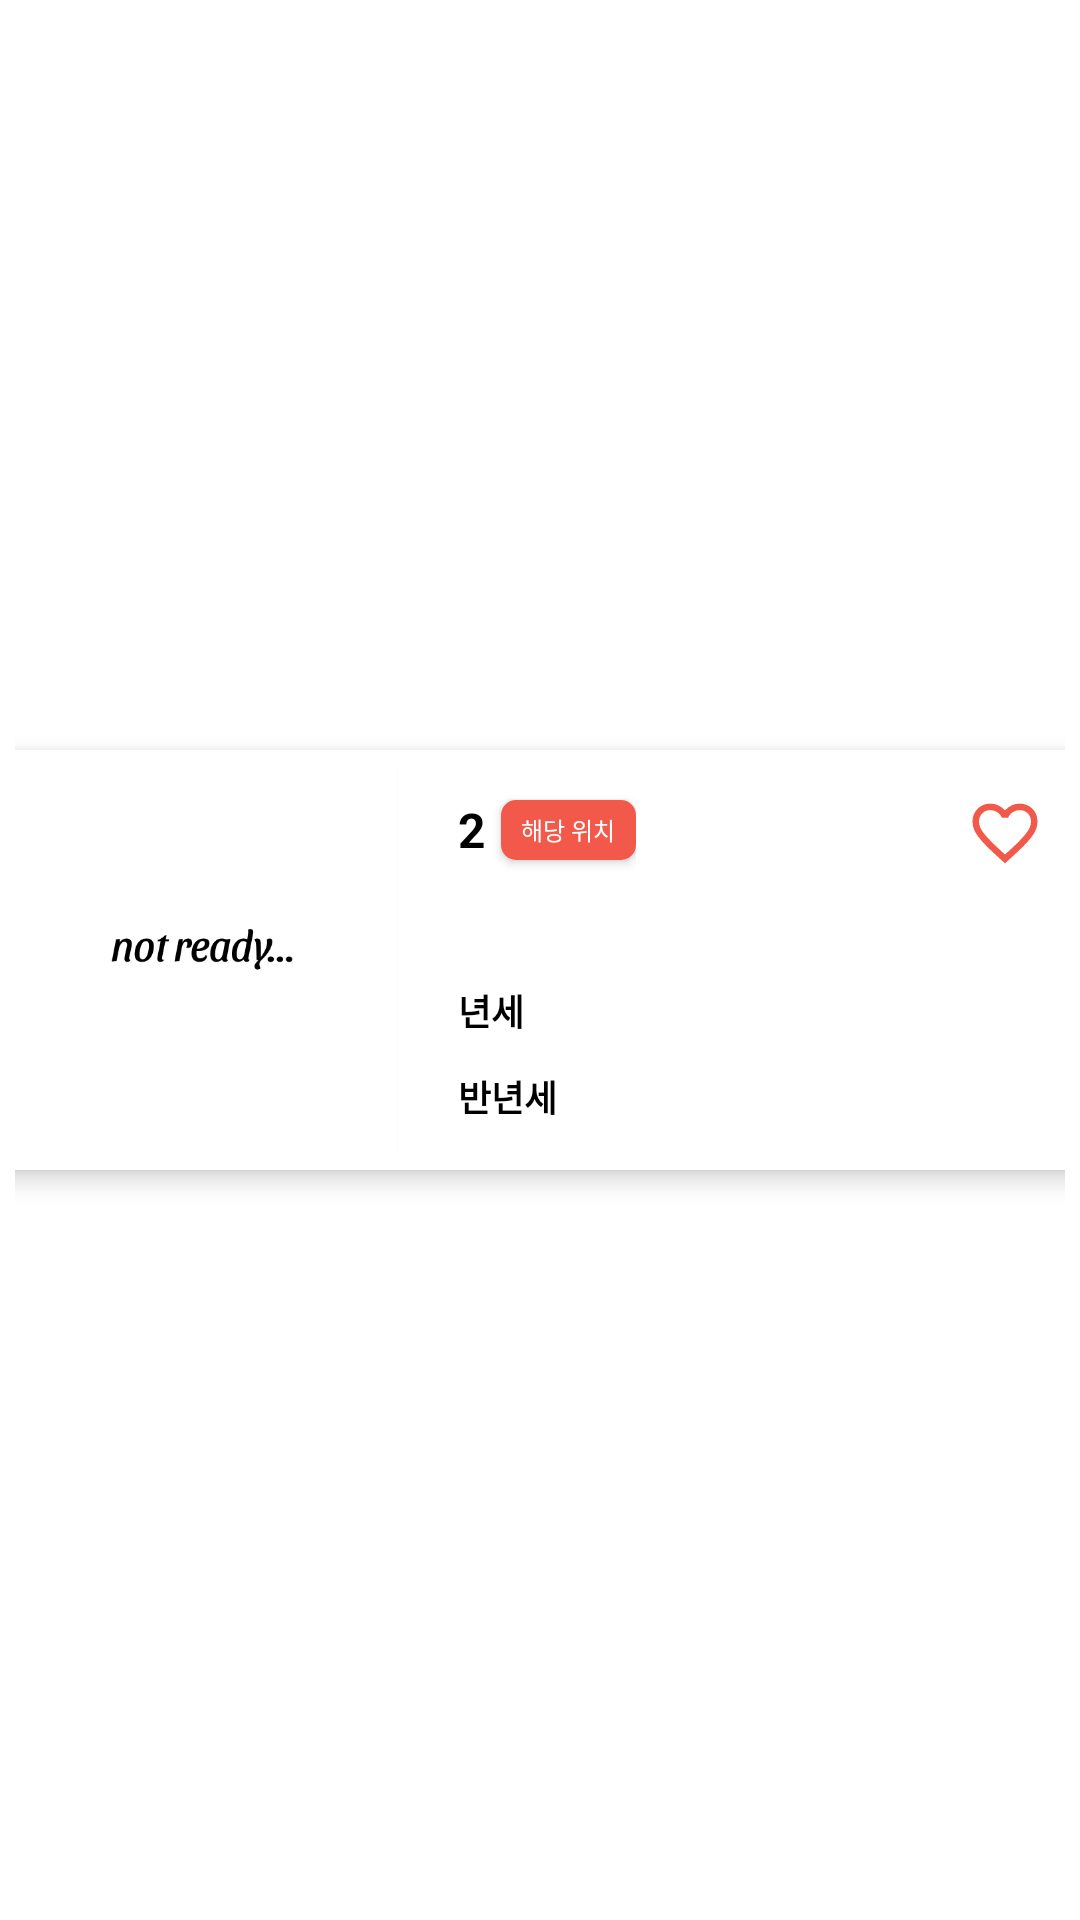

Named icons in this screenshot (1080*1920) and their centers, [x,y]:
favorite: [1005,833]
